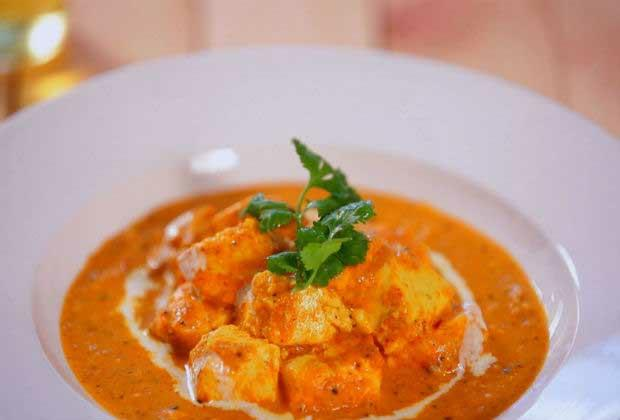ShahiPaneer: (60, 180, 551, 420)
